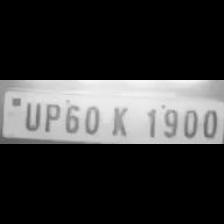0: (80, 102, 104, 134), (178, 104, 200, 138), (197, 106, 219, 140)
1: (138, 104, 158, 138)
6: (61, 100, 80, 134)
9: (158, 104, 180, 138)
K: (104, 101, 134, 137)
P: (42, 100, 60, 132)
U: (20, 97, 40, 130)
